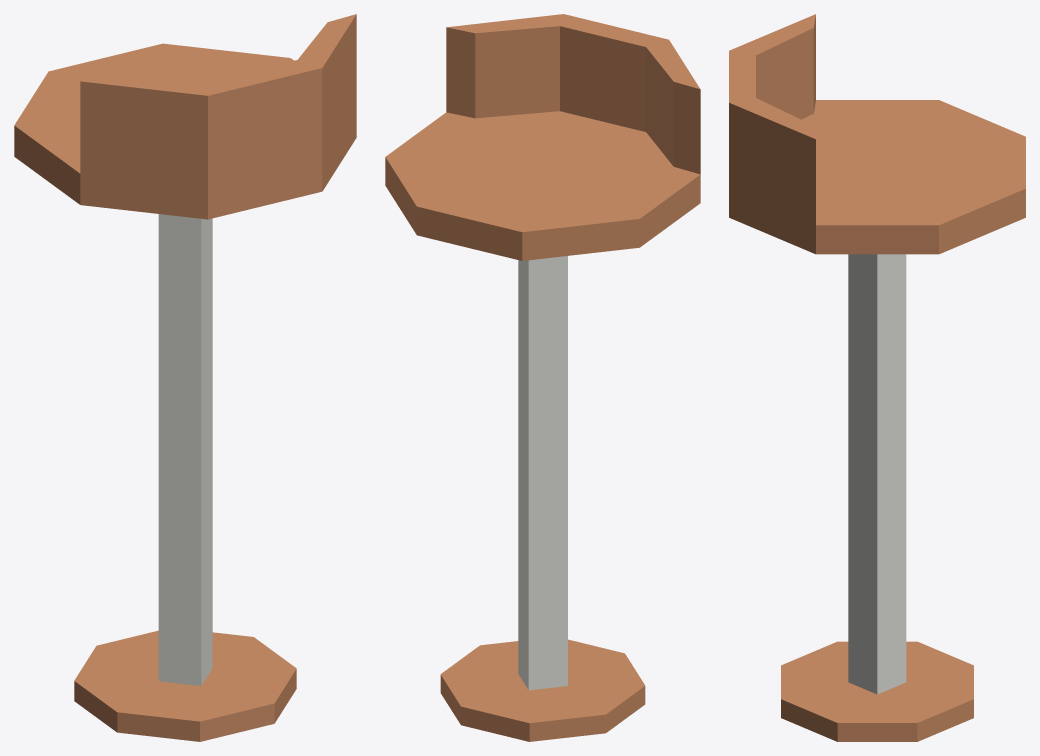
The model's file is Kitchen_Chair_2.fbx.
3 views of the same model, side by side, from view 1: azimuth 30°, elevation 25°; view 2: azimuth 150°, elevation 25°; view 3: azimuth 270°, elevation 25° (orthographic). The views are drawn at different scales.
Parts seen in each view (by area): view 1: polySurface1792; view 2: polySurface1792; view 3: polySurface1792.
Part boxes in pixels (left/top/right/bottom): polySurface1792: left=14, top=14, right=356, bottom=741; polySurface1792: left=385, top=14, right=700, bottom=741; polySurface1792: left=729, top=14, right=1025, bottom=741.
Size of the model in its own units: 0.4619 by 1.07 by 0.4619.
Materials: 1 (1 with a texture image).
